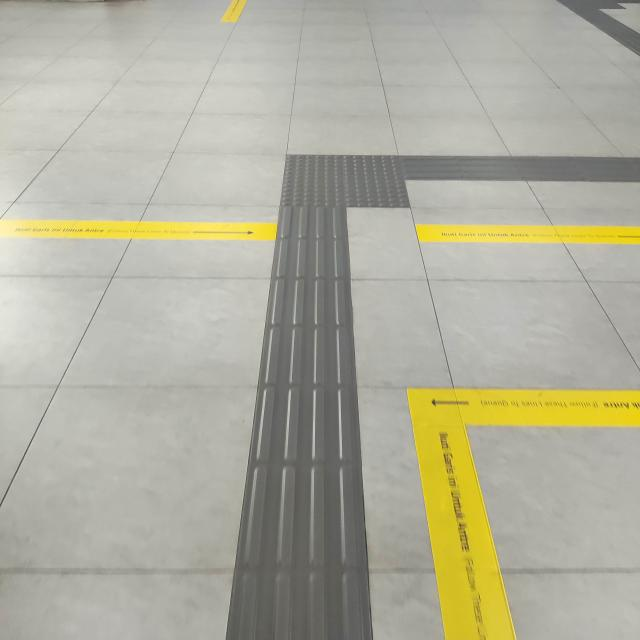kanan: (258, 126, 494, 227)
